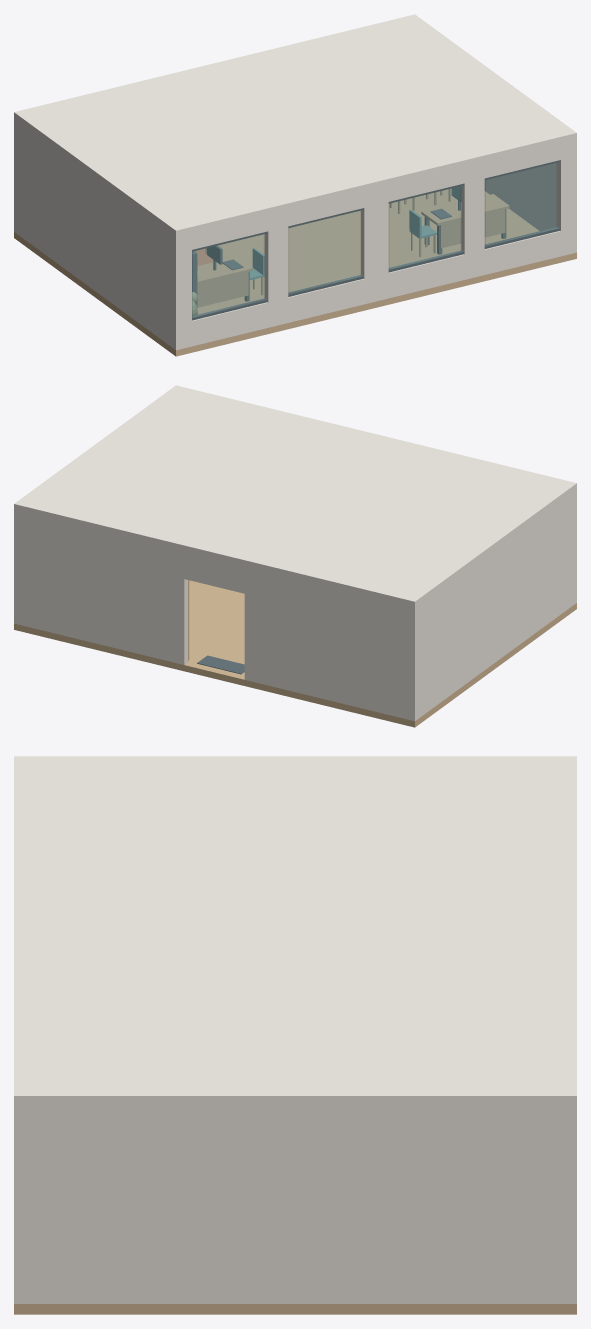
Rendered from office.gltf.
3 renders of one model, top to bottom at view 1: azimuth 30°, elevation 25°; view 2: azimuth 150°, elevation 25°; view 3: azimuth 270°, elevation 25°, orthographic. The views are drawn at different scales.
Visible parts, largest first — view 1: ceiling, wall_w, floor, wall_n_sill, wall_n_header, window_1_glass, window_3_glass, window_2_glass, window_0_glass, wall_e, wall_n_pillar_2, wall_n_pillar_1 (+7 smaller); view 2: ceiling, wall_s_a, wall_s_b, wall_w, floor, wall_s_header, wall_e, decor_doormat; view 3: ceiling, wall_e, floor, wall_n_pillar_4.
Boxes of the visible parts, x1,y1,x2,y2 form: ceiling: (14, 14, 576, 236); wall_w: (14, 118, 181, 350); floor: (14, 188, 576, 356); wall_n_sill: (172, 227, 576, 349); wall_n_header: (172, 140, 576, 253); window_1_glass: (288, 211, 361, 293); window_3_glass: (485, 163, 557, 245); window_2_glass: (389, 186, 461, 269); window_0_glass: (192, 234, 264, 317); wall_e: (484, 139, 576, 230); wall_n_pillar_2: (361, 202, 388, 278); wall_n_pillar_1: (264, 226, 288, 302); ceiling: (14, 385, 576, 607); wall_s_a: (244, 566, 418, 720); wall_s_b: (14, 511, 187, 664); wall_w: (409, 489, 576, 721); floor: (14, 580, 576, 727); wall_s_header: (184, 552, 244, 593); wall_e: (14, 510, 19, 624); decor_doormat: (197, 655, 244, 674); ceiling: (14, 756, 576, 1106); wall_e: (14, 1107, 576, 1303); floor: (14, 1304, 576, 1314); wall_n_pillar_4: (14, 1136, 25, 1259).
Size of the model in its own units: 10 by 3 by 7.
